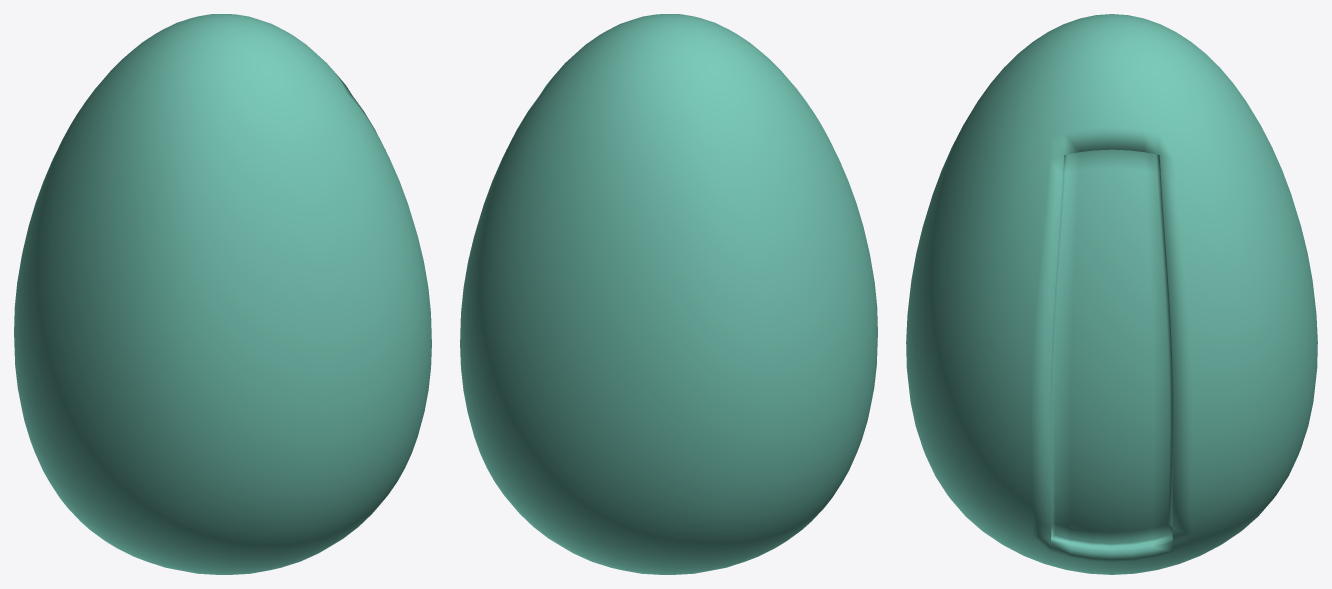
The model's file is Slime Egg  New 1.fbx.
3 renders of one model, left to right at view 1: azimuth 30°, elevation 25°; view 2: azimuth 150°, elevation 25°; view 3: azimuth 270°, elevation 25°, orthographic.
Visible parts, largest first — view 1: Slime Egg New.001; view 2: Slime Egg New.001; view 3: Slime Egg New.001.
Part boxes in pixels (x1=…): Slime Egg New.001: x1=14, y1=14, x2=431, y2=574; Slime Egg New.001: x1=460, y1=14, x2=877, y2=574; Slime Egg New.001: x1=906, y1=14, x2=1317, y2=574.
Size of the model in its own units: 251 by 362 by 256.
